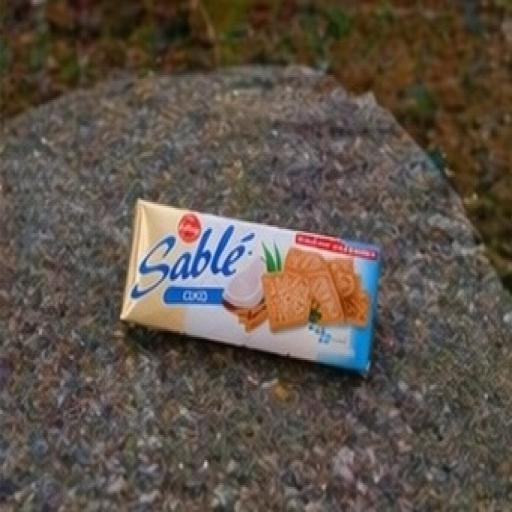sable: (108, 146, 480, 439)
